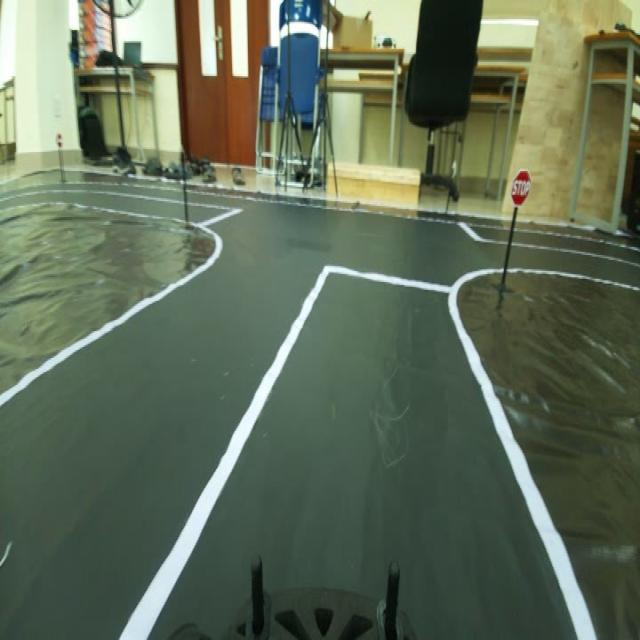stop: (508, 165, 535, 212)
